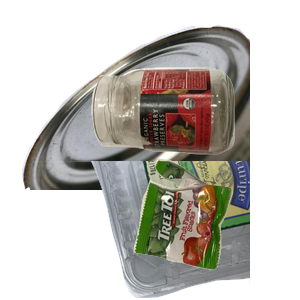glass: (89, 65, 300, 212)
metal: (19, 22, 259, 202)
plastic: (23, 161, 263, 300)
trash: (131, 156, 300, 300)
